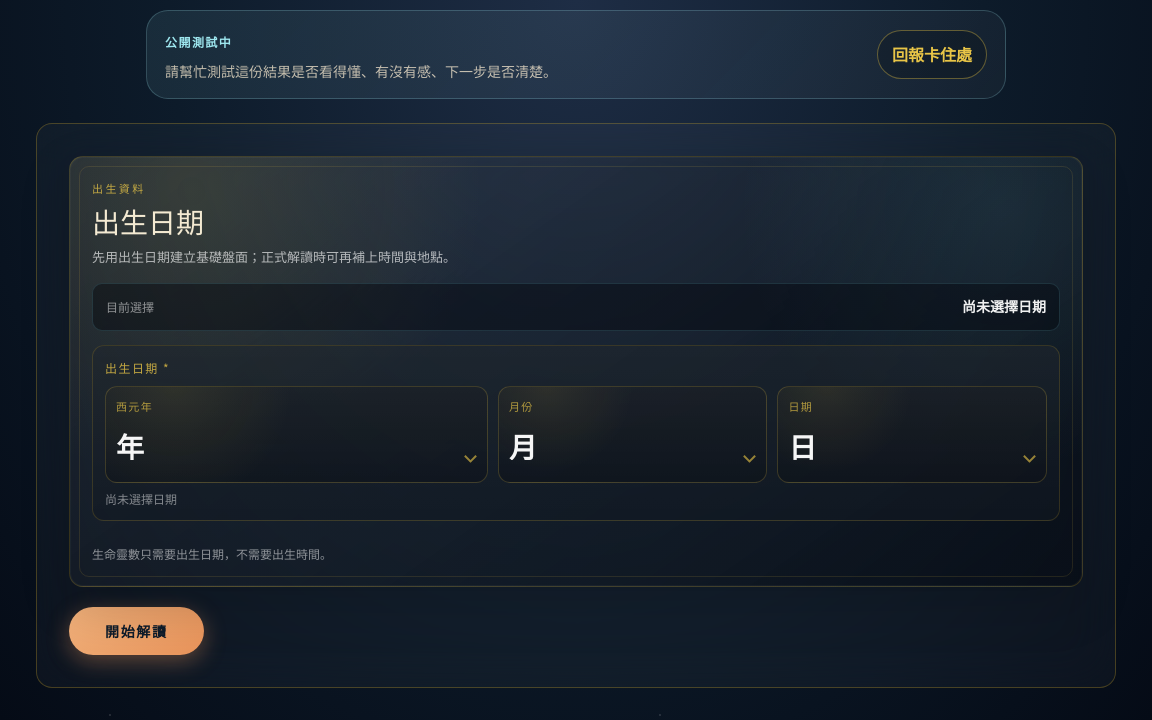
Test case: <NumerologyPage /> › renders ToolError when API returns failure
The image size is (1152, 720).
(page scrolled)
Select "1990" in the dropdown labelled "西元年" at coordinates (296, 446), box [116, 422, 477, 470]
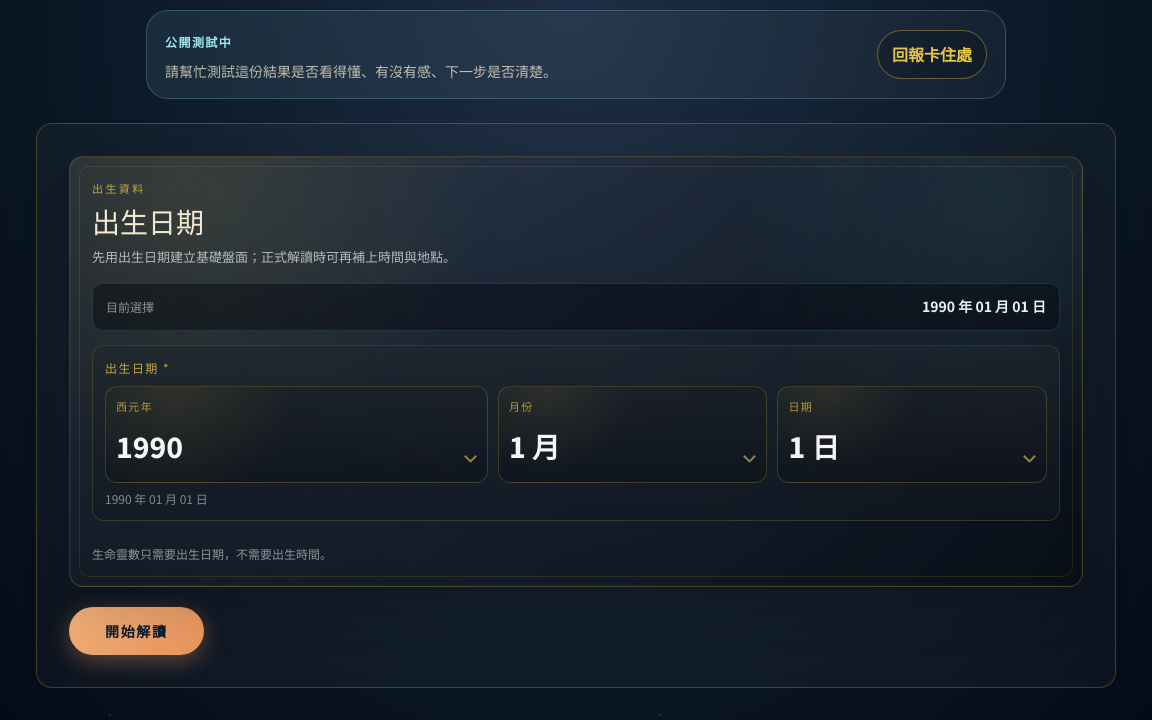
Select "6 月" in the dropdown labelled "月份" at coordinates (633, 446), box [509, 422, 756, 470]
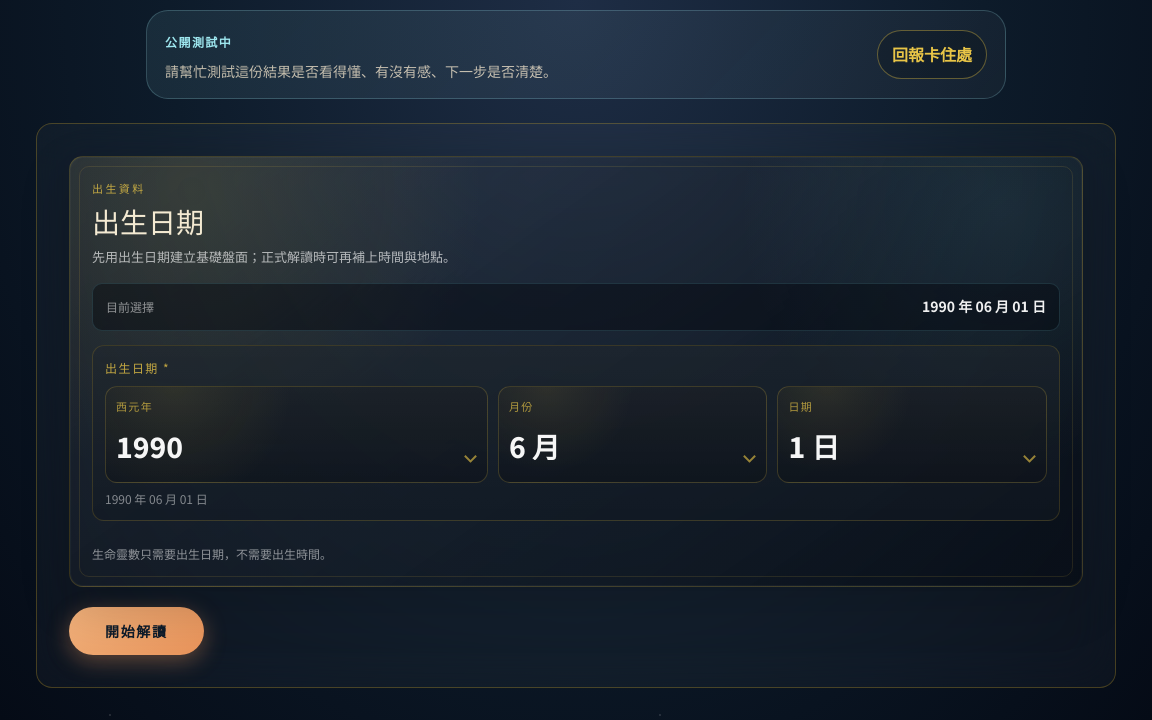
Select "15 日" in the dropdown labelled "日期" at coordinates (912, 446), box [788, 422, 1036, 470]
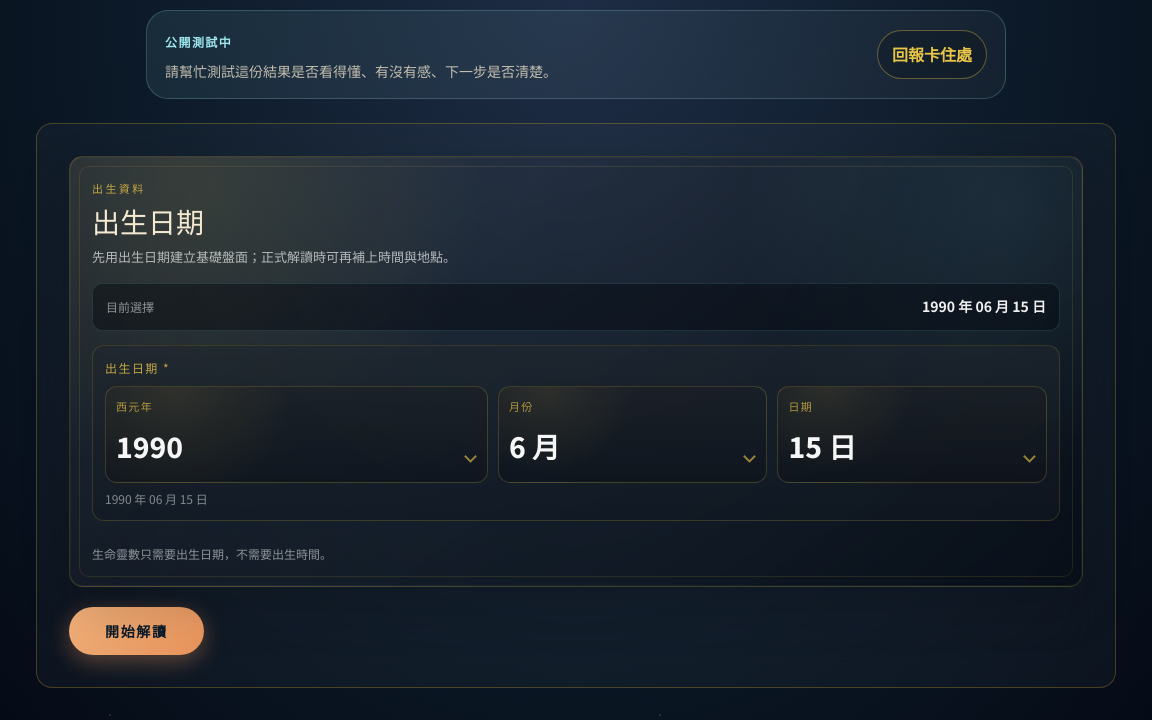
Click the button "開始解讀" at coordinates (136, 630), box [69, 606, 204, 654]
(page scrolled)
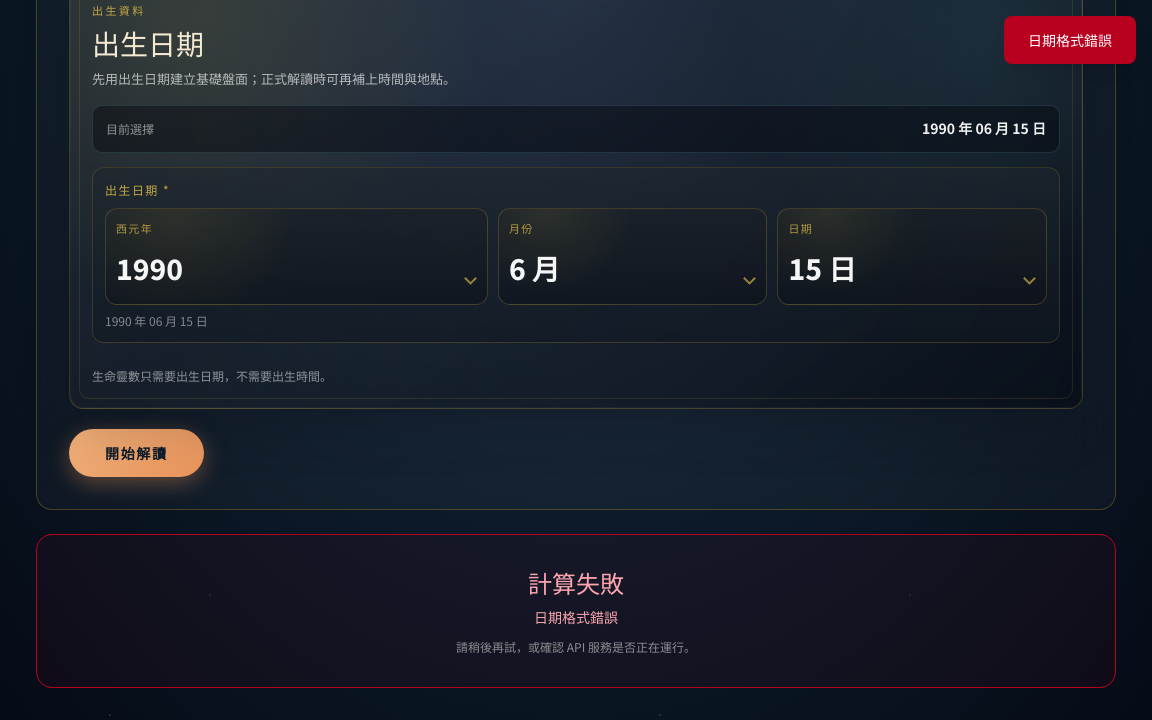
Check: the text "計算失敗" is shown, box [528, 564, 624, 600]
